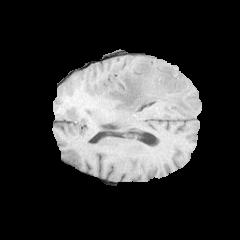glioma: (100, 60, 193, 113)
